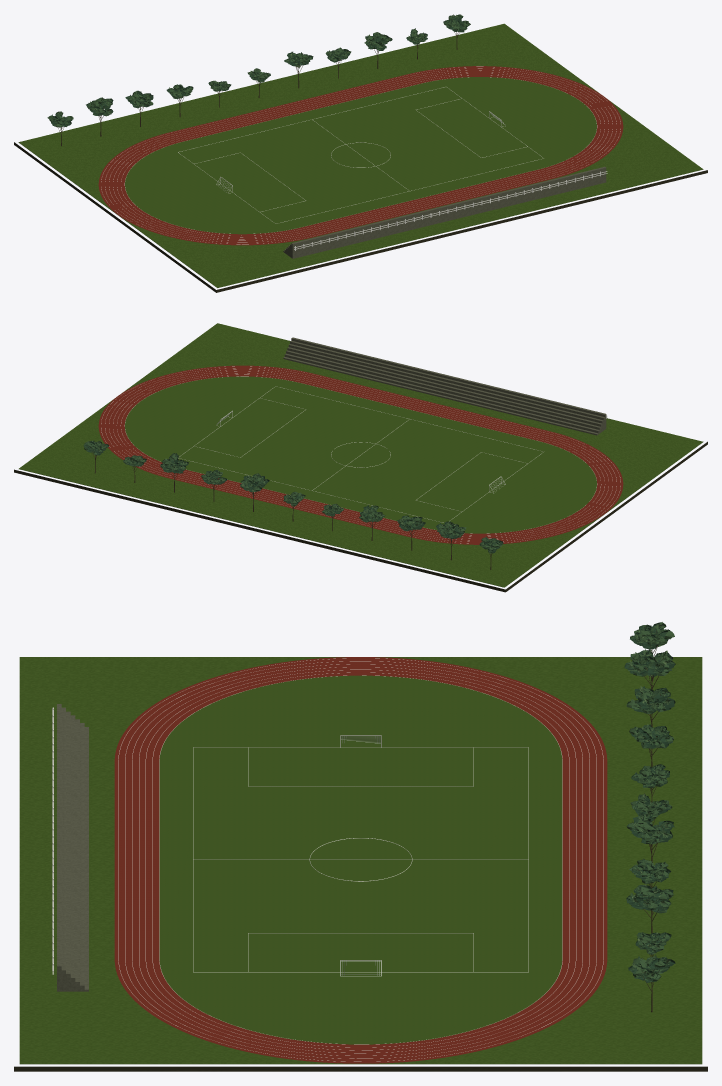
File: lingchuan-athletics.glb
The picture shows the model from 3 angles, top to bottom: view 1: azimuth 30°, elevation 25°; view 2: azimuth 150°, elevation 25°; view 3: azimuth 270°, elevation 25°; orthographic projection. The views are drawn at different scales.
Parts seen in each view (by area): view 1: Athletics_2015_photo_garden_grass, Athletics_ground_garden_grass, Athletics_2015_photo_red_track, Stone_stands_weathered_stone, Athletics_vegetation, Athletics_ground_earth, Athletics_2015_photo_plaster, Stone_stands_plaster; view 2: Athletics_2015_photo_garden_grass, Athletics_ground_garden_grass, Athletics_2015_photo_red_track, Stone_stands_weathered_stone, Athletics_vegetation, Athletics_ground_earth, Athletics_2015_photo_plaster; view 3: Athletics_2015_photo_garden_grass, Athletics_ground_garden_grass, Athletics_2015_photo_red_track, Athletics_vegetation, Athletics_2015_photo_plaster, Stone_stands_weathered_stone, Athletics_ground_earth.
Part boxes in pixels (x1,y1,x2,y2): Athletics_2015_photo_garden_grass: (125, 77, 596, 234); Athletics_ground_garden_grass: (18, 23, 703, 287); Athletics_2015_photo_red_track: (98, 66, 623, 245); Stone_stands_weathered_stone: (283, 166, 606, 258); Athletics_vegetation: (47, 14, 470, 127); Athletics_ground_earth: (14, 142, 707, 292); Athletics_2015_photo_plaster: (101, 66, 620, 244); Stone_stands_plaster: (294, 171, 607, 250); Athletics_2015_photo_garden_grass: (125, 376, 596, 533); Athletics_ground_garden_grass: (19, 323, 703, 587); Athletics_2015_photo_red_track: (98, 365, 623, 544); Stone_stands_weathered_stone: (283, 337, 606, 435); Athletics_vegetation: (83, 440, 503, 553); Athletics_ground_earth: (14, 441, 707, 592); Athletics_2015_photo_plaster: (101, 366, 620, 543); Athletics_2015_photo_garden_grass: (159, 675, 562, 1044); Athletics_ground_garden_grass: (19, 657, 702, 1064); Athletics_2015_photo_red_track: (114, 657, 607, 1063); Athletics_vegetation: (624, 622, 675, 982); Athletics_2015_photo_plaster: (118, 658, 603, 1061); Stone_stands_weathered_stone: (57, 704, 88, 991); Athletics_ground_earth: (14, 1066, 707, 1071).
Size of the model in its own units: 174 by 13.31 by 124.
Materials: 11 (5 with a texture image).
